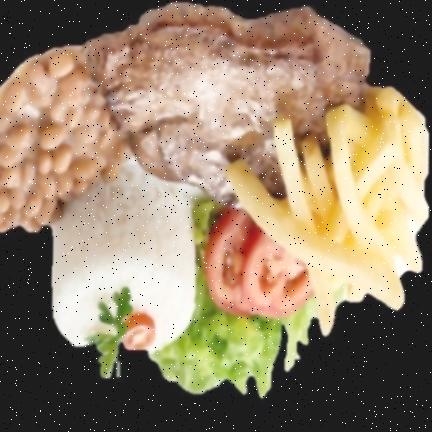beans: (0, 44, 126, 229)
meat: (90, 5, 375, 212)
potato: (225, 85, 427, 332)
rice: (52, 161, 202, 354)
salad: (151, 280, 319, 400)
tomato: (203, 204, 313, 319)
